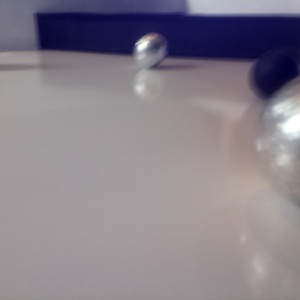zone: (36, 13, 300, 59)
